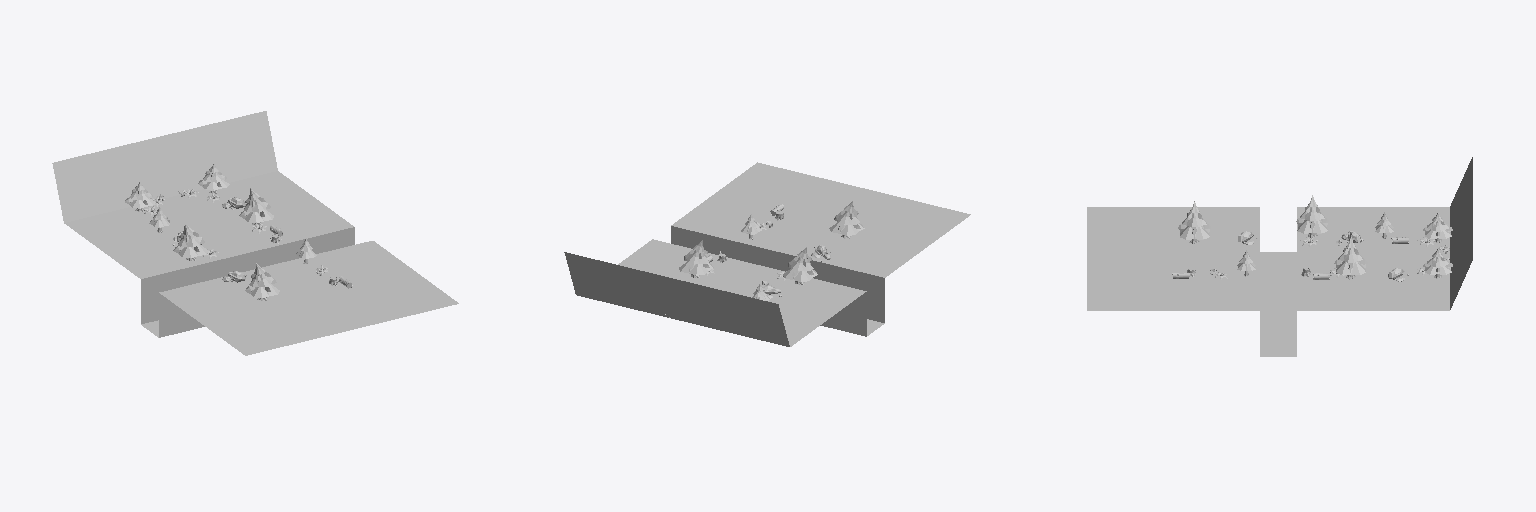
Rendered from escenario_bosque.obj.
3 views of the same model, side by side, from view 1: azimuth 30°, elevation 25°; view 2: azimuth 150°, elevation 25°; view 3: azimuth 270°, elevation 25° (orthographic).
Parts seen in each view (by area): view 1: suelo_bosque escenario_bosque, escenario_bosque bosque_ladeado2, escenario_bosque bosque_ladeado1, escenario_bosque bosque_ladeado3; view 2: suelo_bosque escenario_bosque, escenario_bosque bosque_ladeado2, escenario_bosque bosque_ladeado3, escenario_bosque bosque_ladeado1; view 3: suelo_bosque escenario_bosque, escenario_bosque bosque_ladeado1, escenario_bosque bosque_ladeado3, escenario_bosque bosque_ladeado2.
Part boxes in pixels (x1,y1,x2,y2): suelo_bosque escenario_bosque: (52, 111, 458, 355); escenario_bosque bosque_ladeado2: (173, 224, 207, 260); escenario_bosque bosque_ladeado1: (245, 263, 279, 300); escenario_bosque bosque_ladeado3: (239, 188, 273, 225); suelo_bosque escenario_bosque: (564, 162, 970, 346); escenario_bosque bosque_ladeado2: (783, 247, 817, 284); escenario_bosque bosque_ladeado3: (679, 240, 713, 277); escenario_bosque bosque_ladeado1: (829, 201, 864, 238); suelo_bosque escenario_bosque: (1087, 157, 1472, 356); escenario_bosque bosque_ladeado1: (1178, 201, 1210, 243); escenario_bosque bosque_ladeado3: (1334, 237, 1367, 279); escenario_bosque bosque_ladeado2: (1296, 195, 1328, 237).
Bounding box in the file's own units: 945 × 410 × 1476.